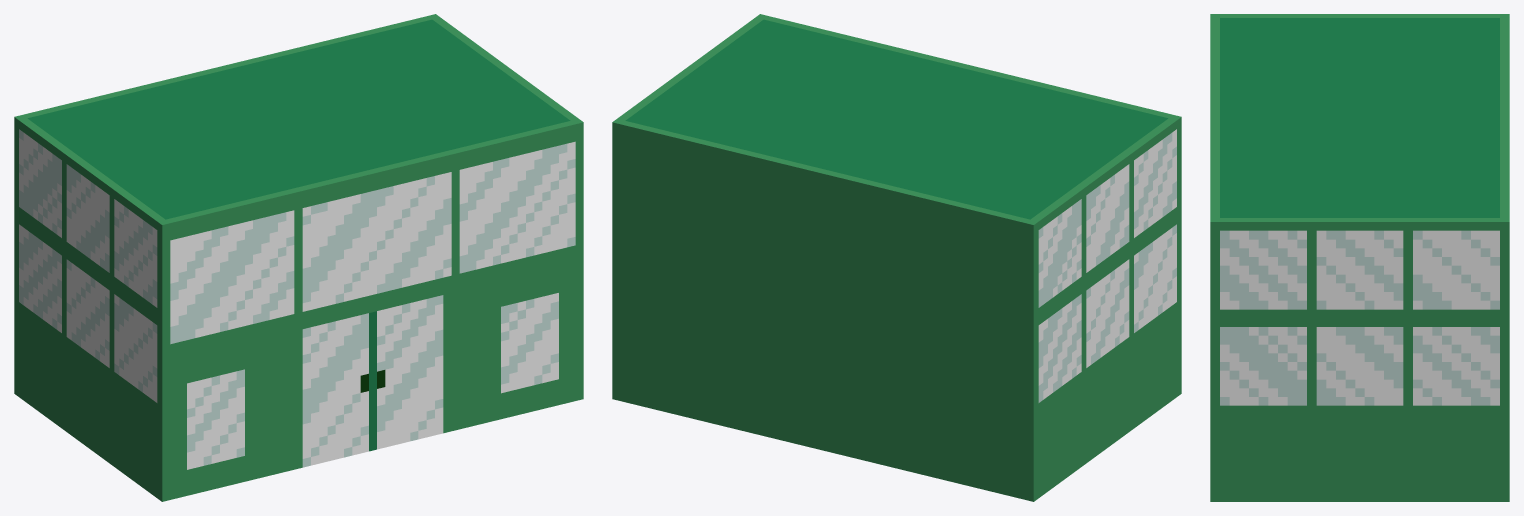
File: SubBuilding_Main.obj
3 views of the same model, side by side, from view 1: azimuth 30°, elevation 25°; view 2: azimuth 150°, elevation 25°; view 3: azimuth 270°, elevation 25° (orthographic).
Size of the model in its own units: 5.1 by 3.2 by 3.1.
Materials: 1 (1 with a texture image).
